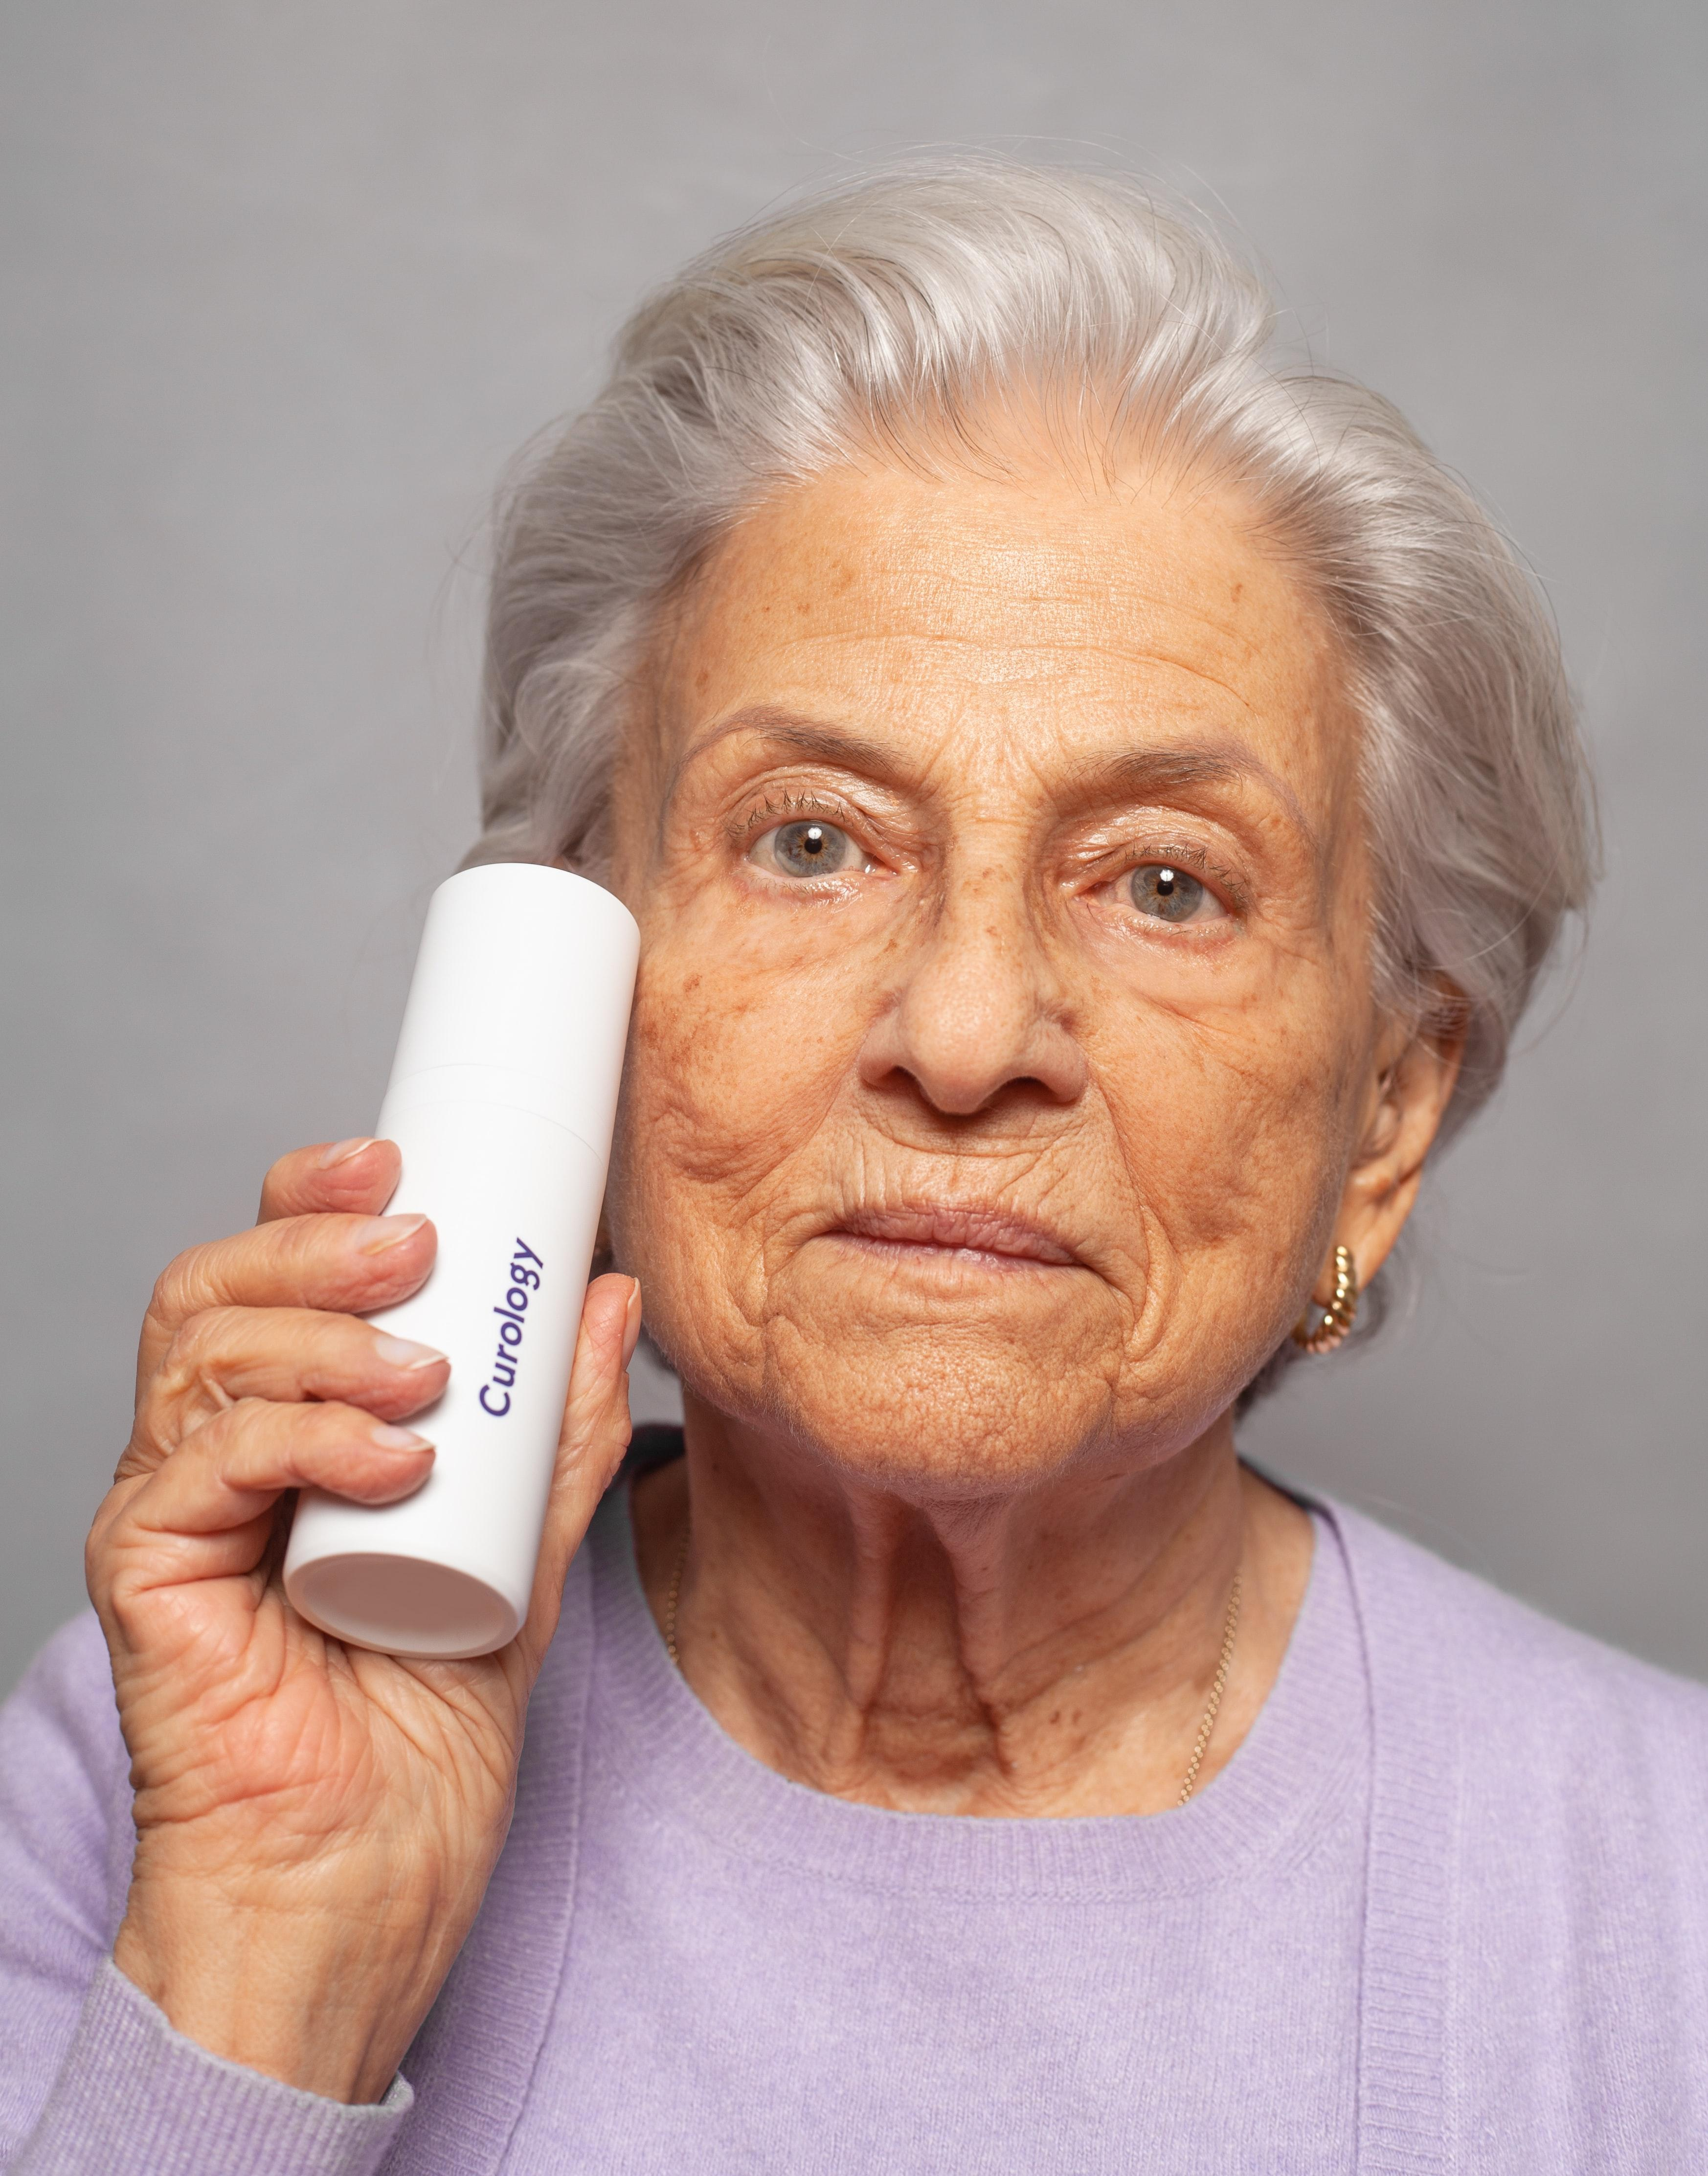Wrinkles: (825, 636, 1155, 668), (1130, 648, 1256, 714), (756, 629, 858, 659), (873, 572, 993, 588), (1026, 758, 1060, 812), (918, 737, 952, 784), (1007, 599, 1076, 602)
